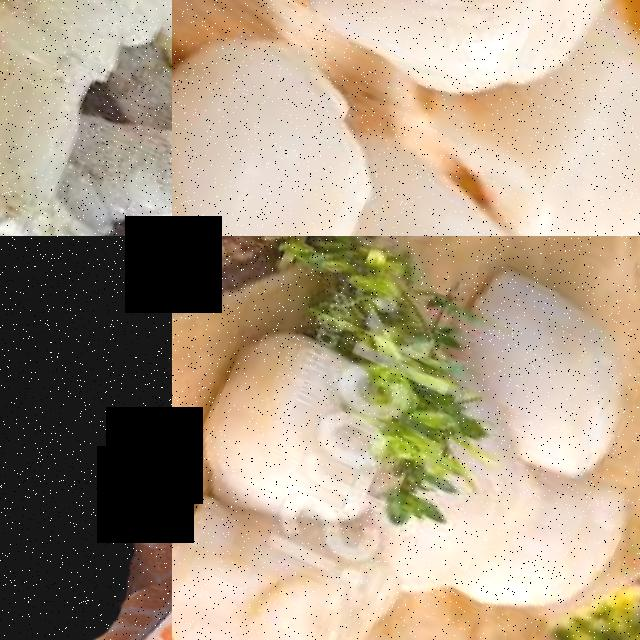sea scallops: (172, 0, 416, 236), (267, 0, 640, 139), (439, 256, 640, 469), (455, 71, 640, 236), (486, 452, 640, 637), (282, 166, 575, 236)
shrimp: (0, 0, 172, 218), (74, 36, 172, 236)
